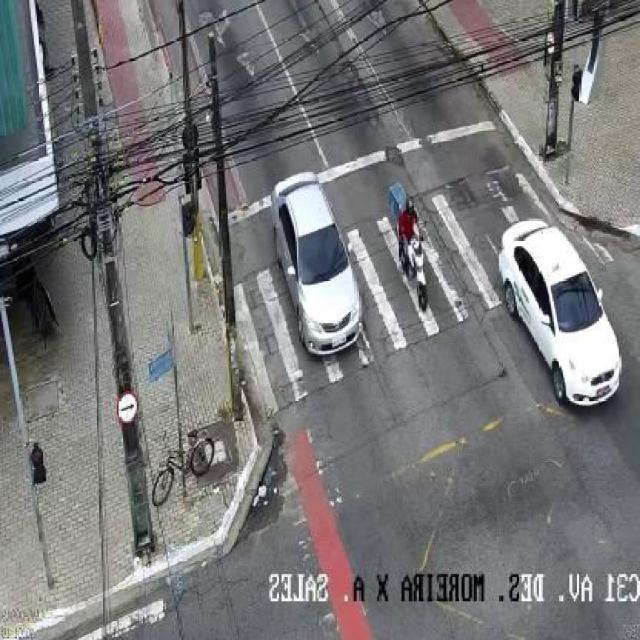Car: (493, 216, 626, 412), (264, 172, 367, 358)
Cycle: (382, 179, 438, 314), (146, 429, 219, 516)
